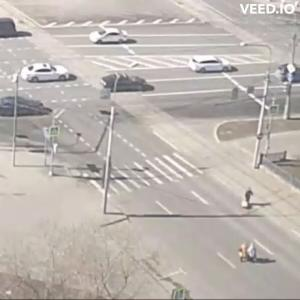car: (1, 93, 53, 123), (23, 64, 75, 85), (102, 74, 156, 94), (84, 27, 131, 45), (2, 18, 33, 40), (190, 57, 224, 75), (276, 61, 300, 85)
